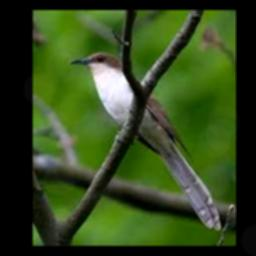Cuckoo: (69, 52, 220, 230)
